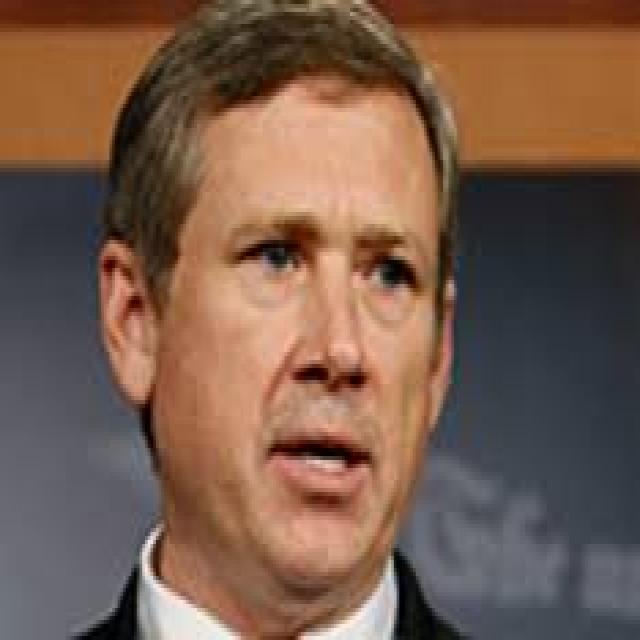normal_face: (102, 16, 494, 640)
